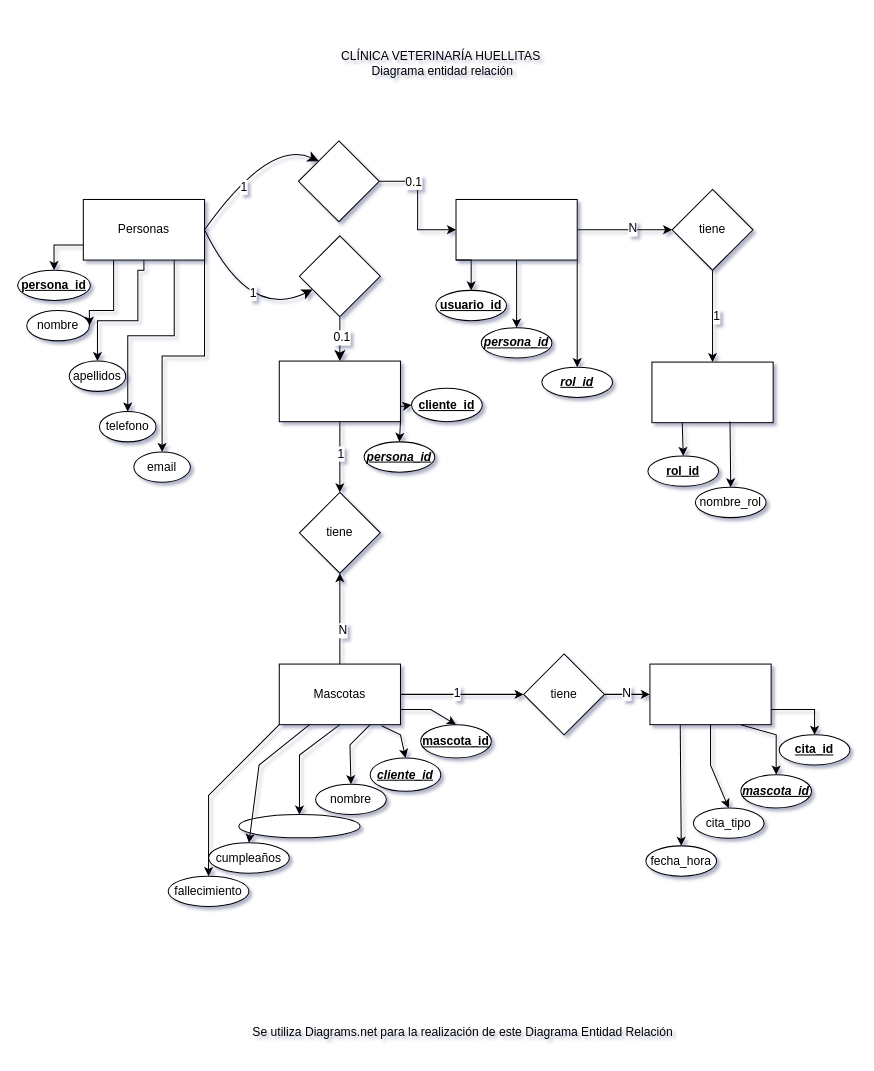
Image size: 874x1071. Some labels were removed from this diagram. Here are the shapes that lost their labels. From the top down, the centre of each, then its label:
At (x=338, y=181): "es".
At (x=516, y=229): "Usuarios".
At (x=339, y=276): "son".
At (x=339, y=391): "Clientes".
At (x=712, y=392): "Roles".
At (x=710, y=694): "Citas".
At (x=299, y=826): "fecha_nacimiento".
